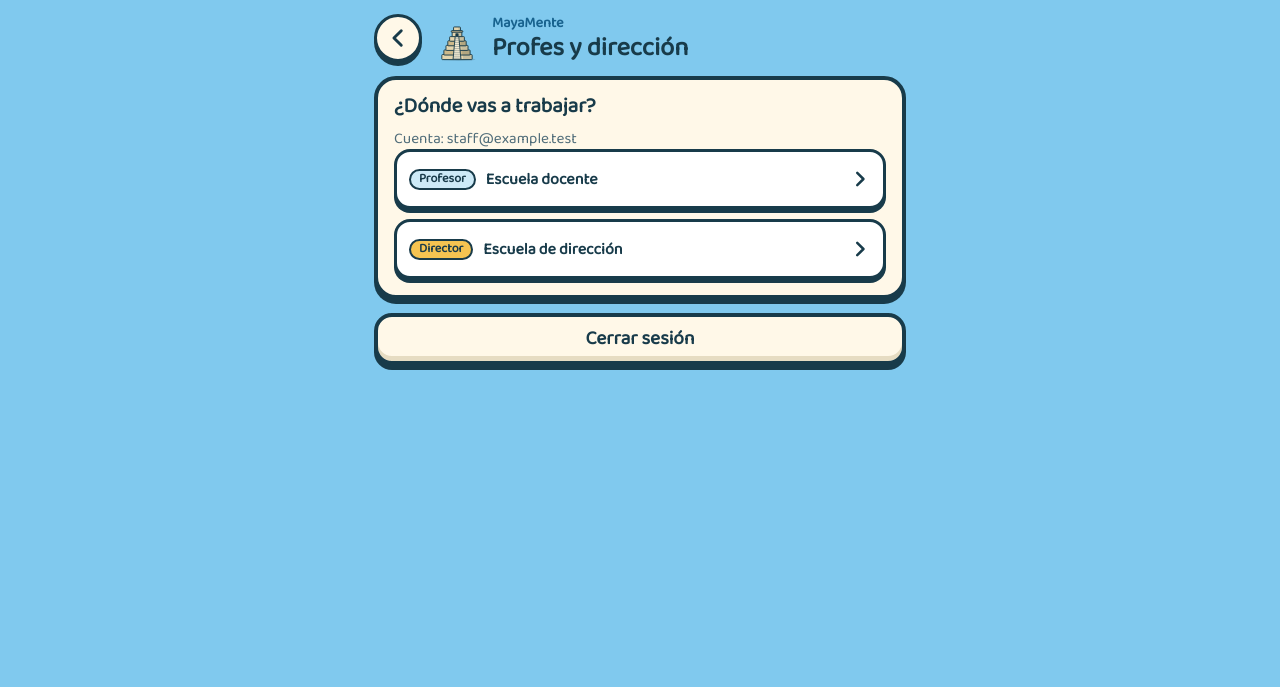
Test: recorridos de los paneles con contratos HTTP › varios roles requieren elegir contexto antes de cargar datos de un colegio
The width and height of the screenshot is (1280, 687).
Expected: the heading "¿Dónde vas a trabajar?" is shown, top-left (394, 90), bottom-right (596, 123)
Click the link "Profesor Escuela docente".
click(442, 179)  # box top-left (394, 149), bottom-right (886, 209)
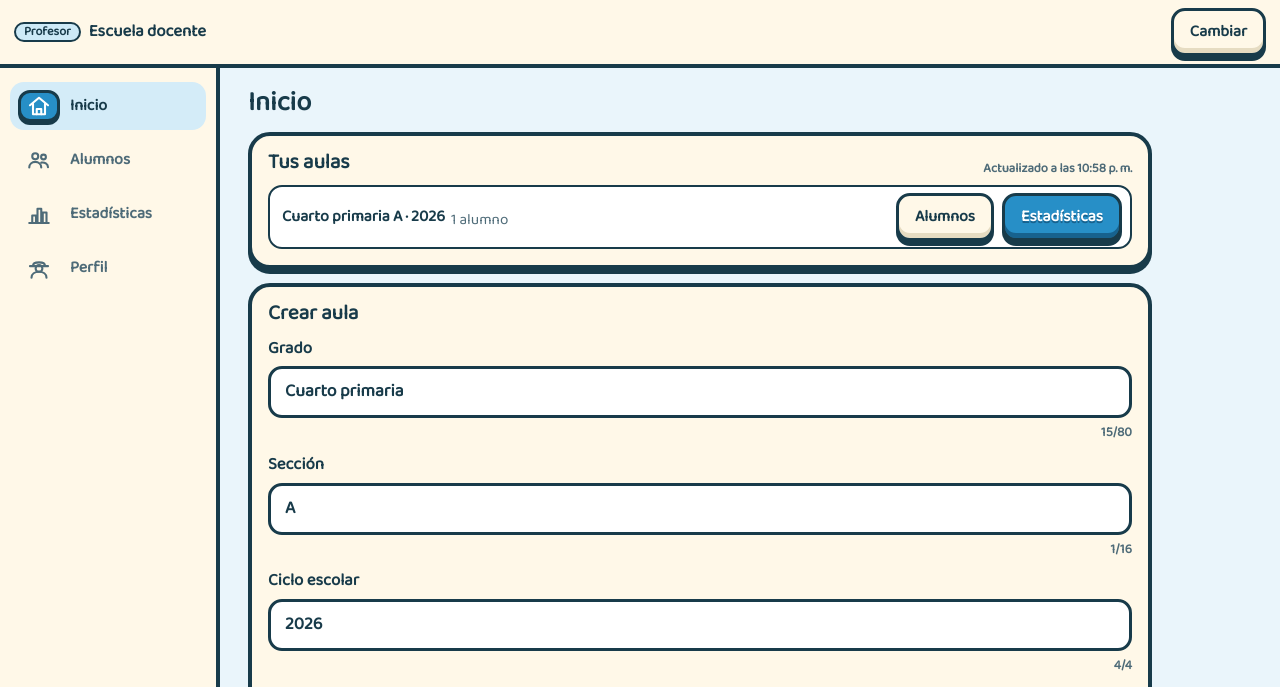
Expected: the text "Cuarto primaria A · 2026" is shown, top-left (282, 206), bottom-right (445, 228)
